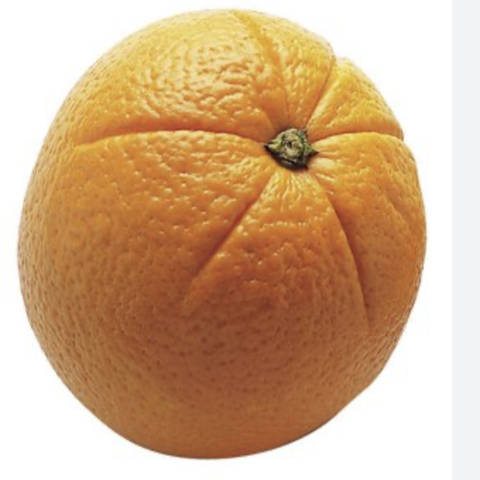orange: (3, 6, 463, 466)
